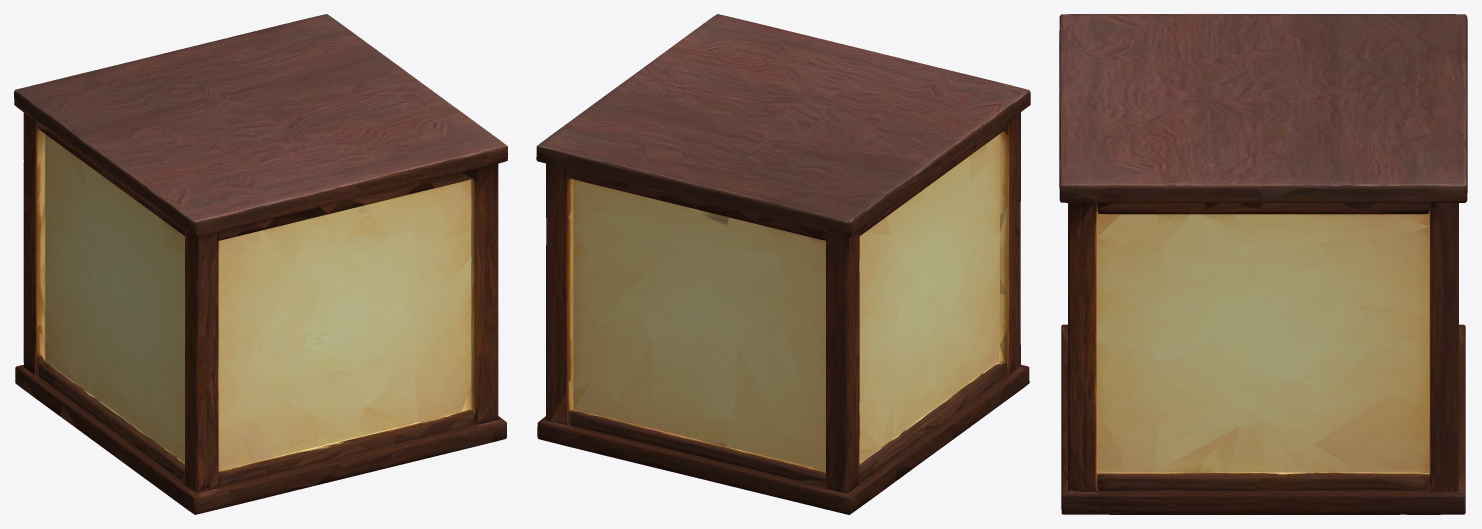
Rendered from water_lantern.glb.
3 views of the same model, side by side, from view 1: azimuth 30°, elevation 25°; view 2: azimuth 150°, elevation 25°; view 3: azimuth 270°, elevation 25° (orthographic). The views are drawn at different scales.
Parts seen in each view (by area): view 1: tripo_node_045c2f07-305b-4e29-ad03-64d04b35d742; view 2: tripo_node_045c2f07-305b-4e29-ad03-64d04b35d742; view 3: tripo_node_045c2f07-305b-4e29-ad03-64d04b35d742.
Part boxes in pixels (left/top/right/bottom): tripo_node_045c2f07-305b-4e29-ad03-64d04b35d742: left=14, top=14, right=507, bottom=514; tripo_node_045c2f07-305b-4e29-ad03-64d04b35d742: left=536, top=14, right=1030, bottom=514; tripo_node_045c2f07-305b-4e29-ad03-64d04b35d742: left=1059, top=14, right=1467, bottom=514.
Size of the model in its own units: 0.32 by 0.2861 by 0.3197.
1 material, 1 textured.
